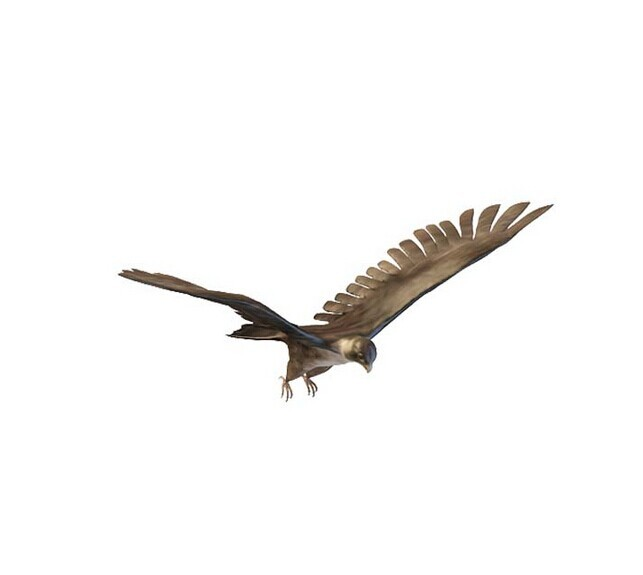bird: (112, 191, 558, 403)
